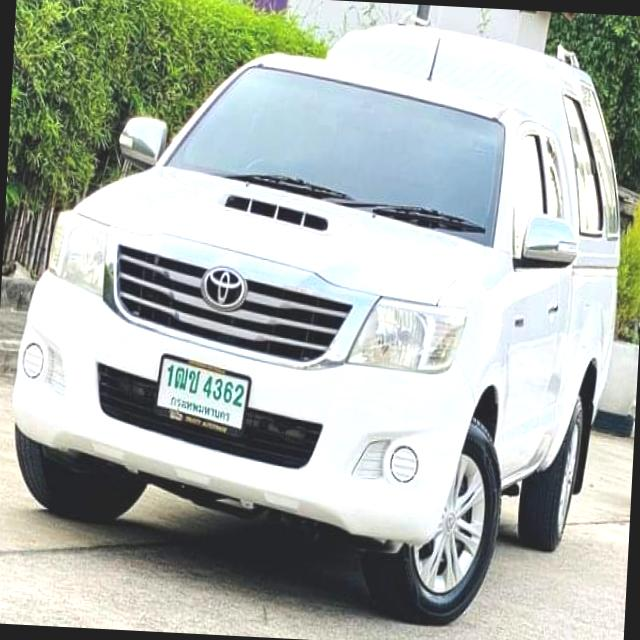license_plate: (149, 351, 256, 444)
